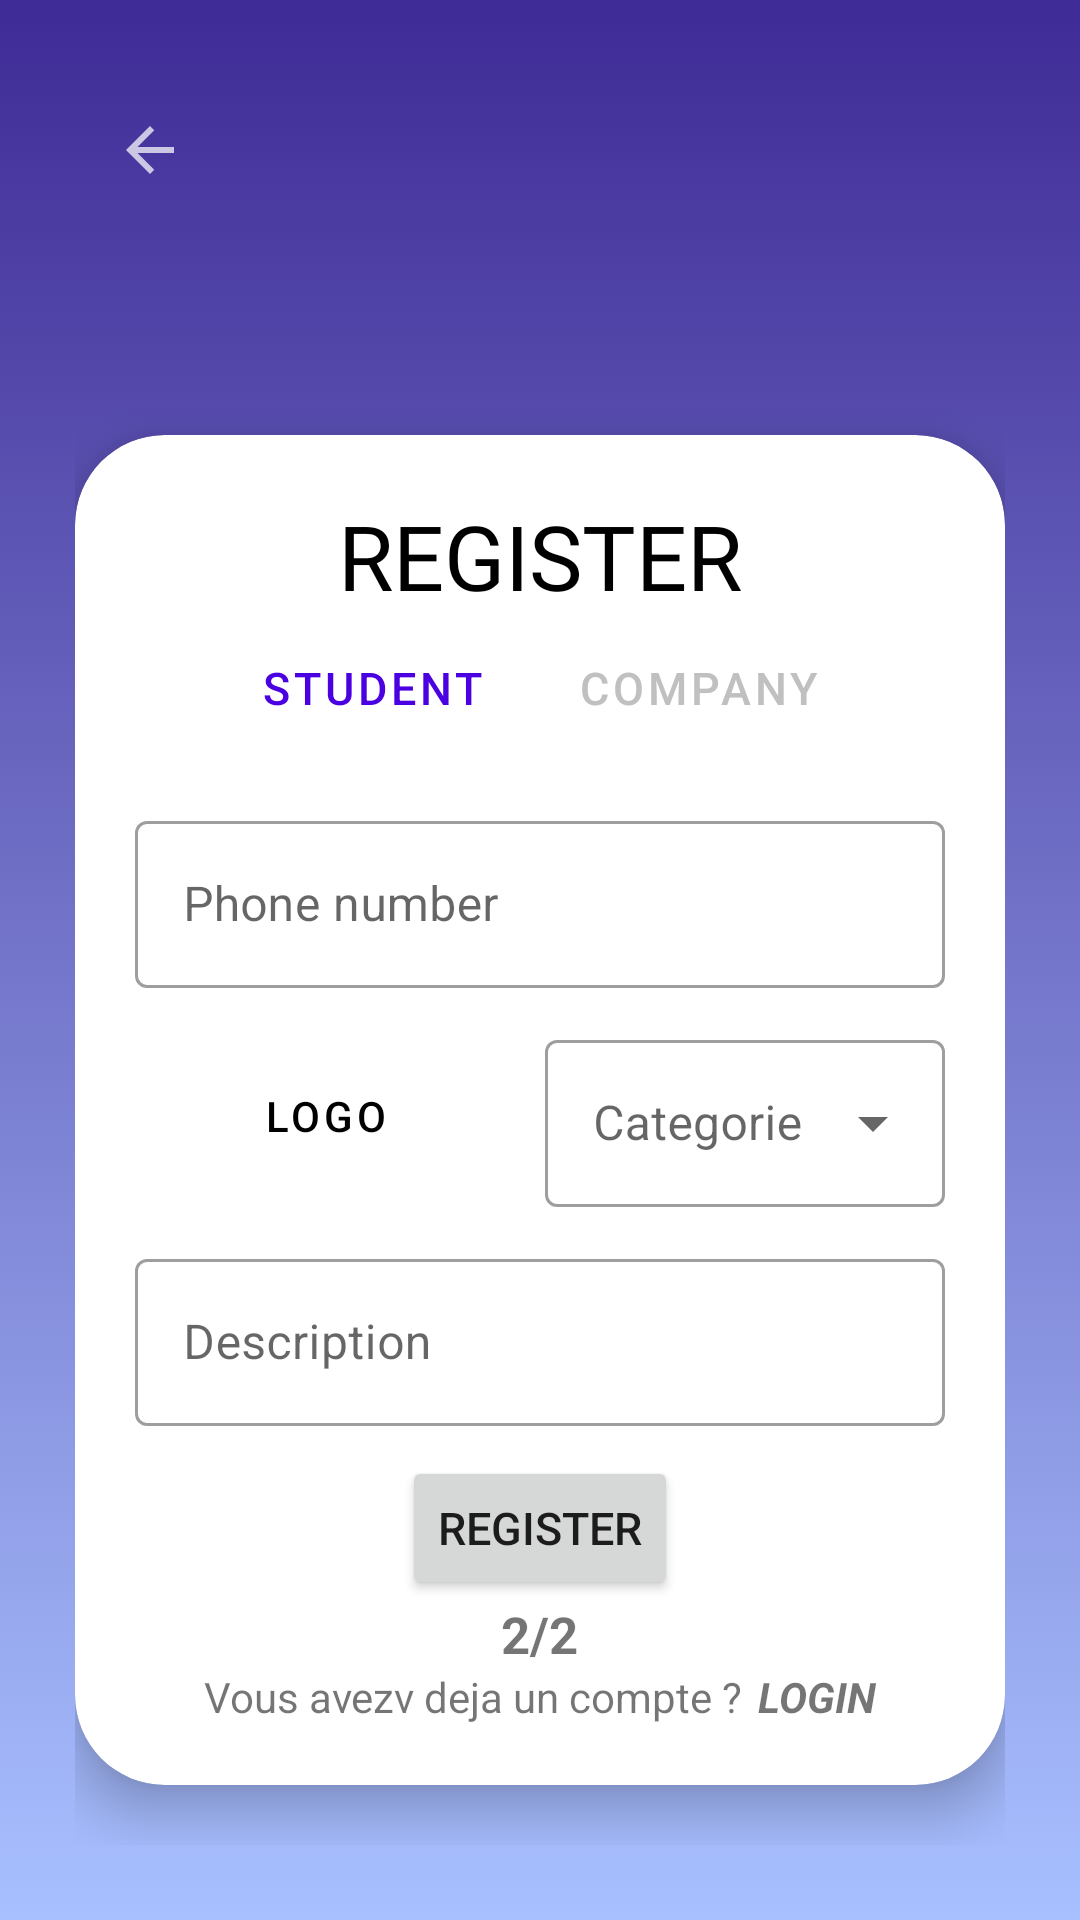

Icon click points for this 1080w x 1920h phone screenshot, format point (x, y):
arrow back: point (150, 150)
